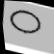no answer: (5, 6, 44, 38)
